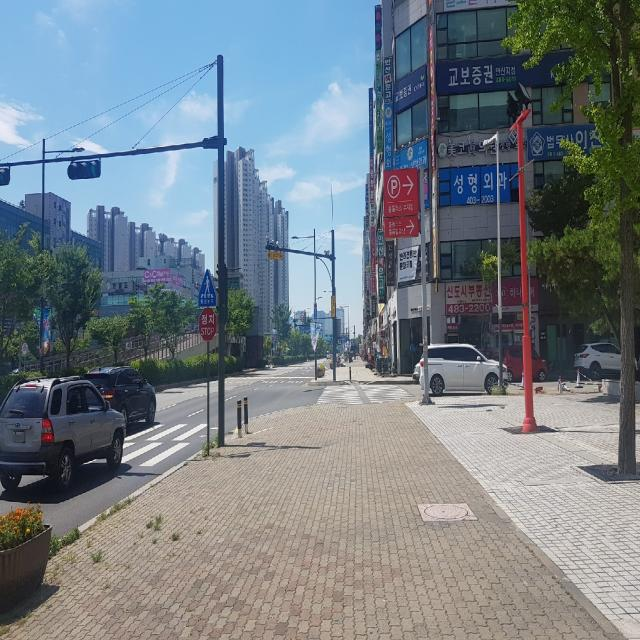횡단보도: (125, 420, 209, 469), (315, 384, 416, 404)
